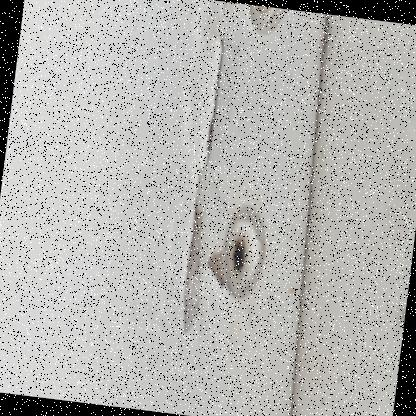Crack: (138, 0, 361, 415)
